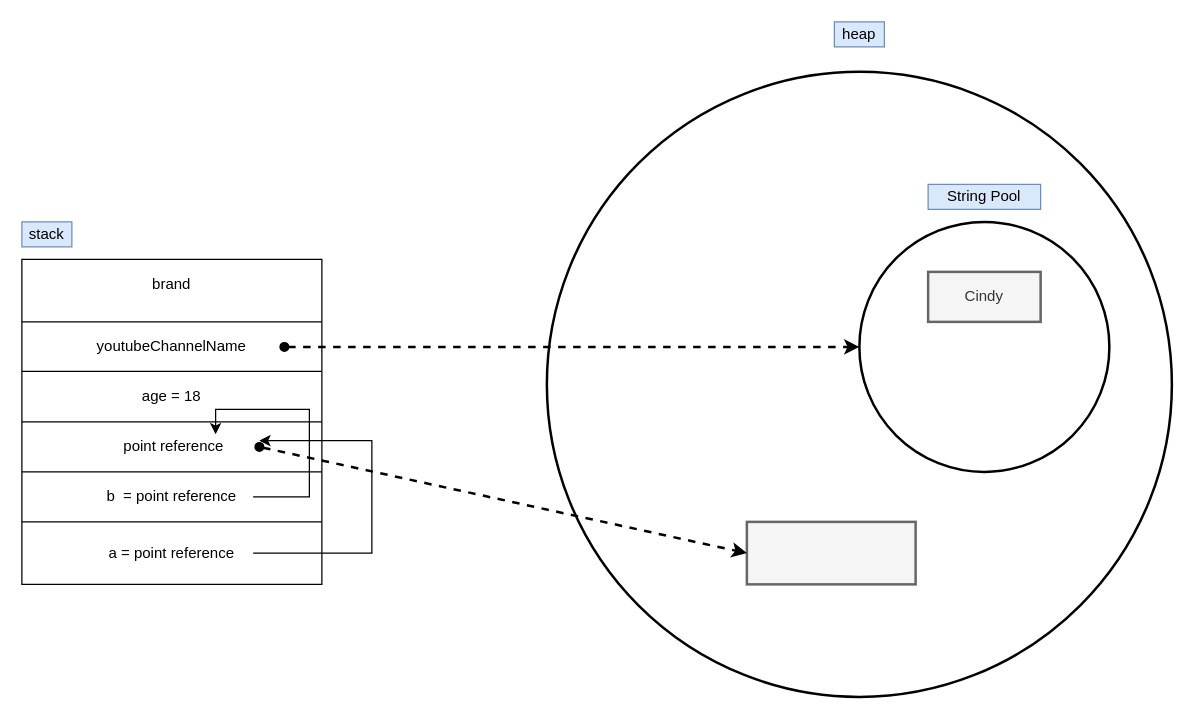
The diagram is 1195 pixels wide and 720 high, and some of its shapes have lost their labels. Here are the shapes that lost their labels. From the top down, the box of each, then its label:
(858, 220, 1110, 472): Hello
(745, 520, 916, 585): Point Object | 10, 10
